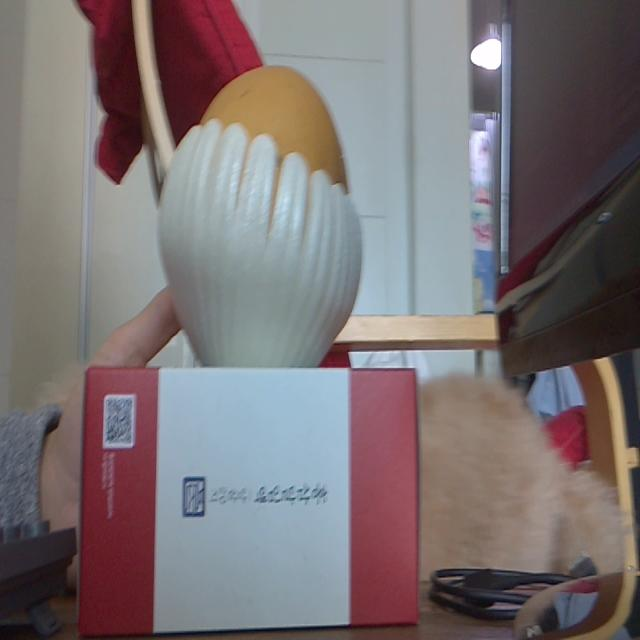pear: (157, 65, 362, 368)
